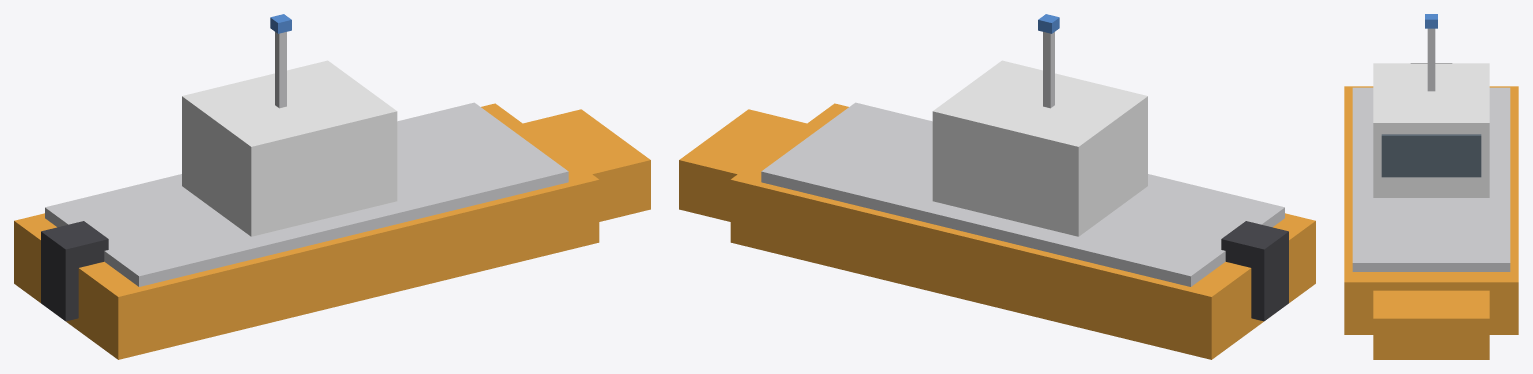
File: AED_Boat.gltf
3 views of the same model, side by side, from view 1: azimuth 30°, elevation 25°; view 2: azimuth 150°, elevation 25°; view 3: azimuth 270°, elevation 25° (orthographic). The views are drawn at different scales.
Parts seen in each view (by area): view 1: AED_Boat; view 2: AED_Boat; view 3: AED_Boat.
Boxes of the visible parts, left/top/right/bottom form: AED_Boat: left=14, top=14, right=650, bottom=359; AED_Boat: left=679, top=14, right=1315, bottom=359; AED_Boat: left=1344, top=14, right=1518, bottom=359.
Size of the model in its own units: 6.55 by 2.79 by 2.1.
